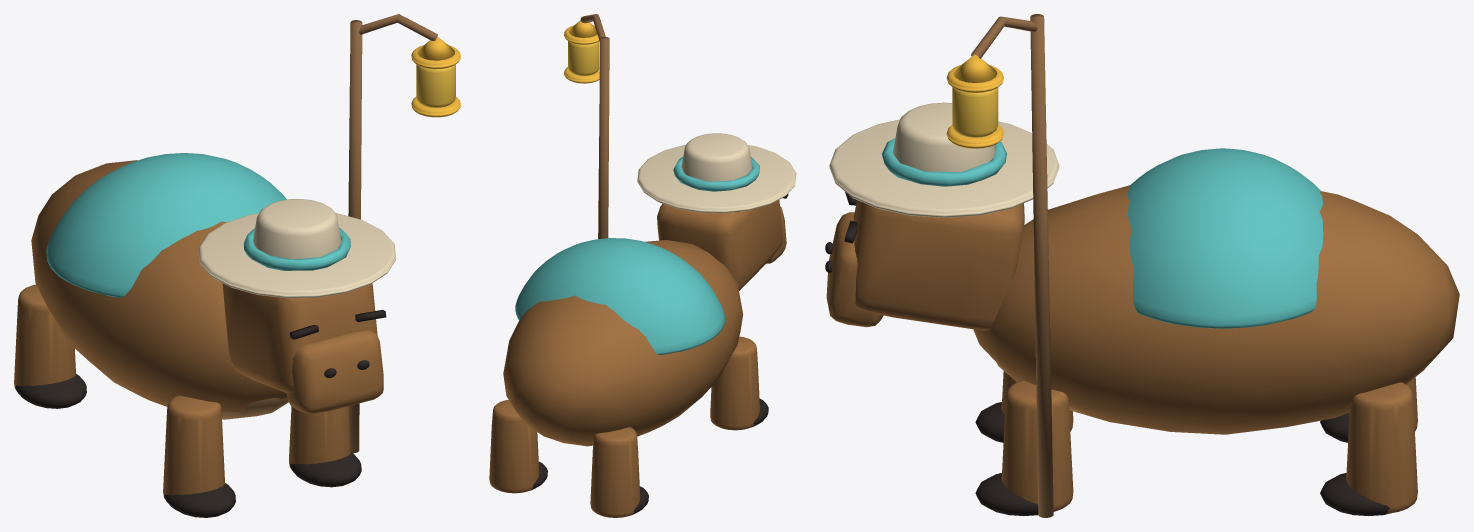
The model's file is Riverkeeper.fbx.
The picture shows the model from 3 angles, left to right: view 1: azimuth 30°, elevation 25°; view 2: azimuth 150°, elevation 25°; view 3: azimuth 270°, elevation 25°; orthographic projection. The views are drawn at different scales.
Parts seen in each view (by area): view 1: Riverkeeper; view 2: Riverkeeper; view 3: Riverkeeper.
Boxes of the visible parts, x1,y1,x2,y2 form: Riverkeeper: [14, 14, 460, 517]; Riverkeeper: [489, 14, 796, 517]; Riverkeeper: [825, 14, 1459, 517].
Bounding box in the file's own units: 1.01 × 1.52 × 1.65.
